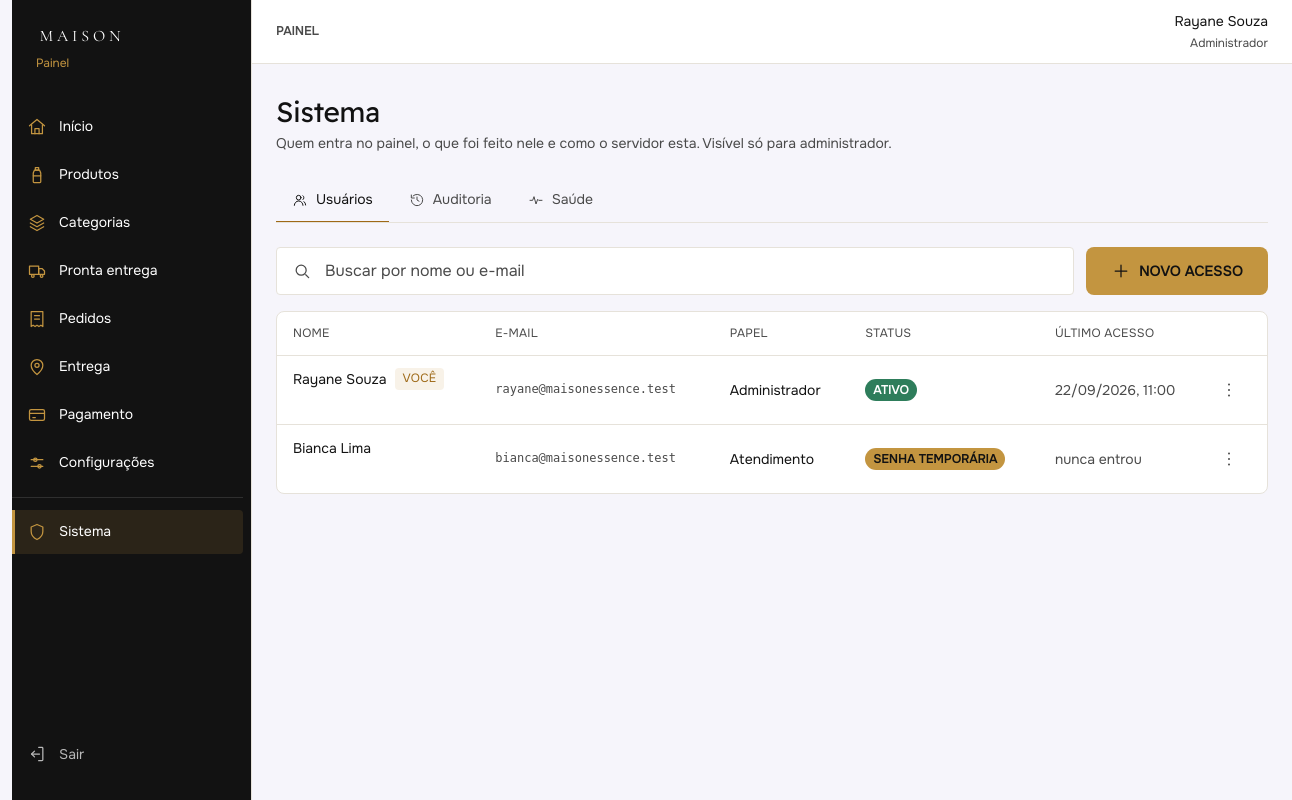
Test case: a busca filtra por nome e por e-mail, sem ir ao servidor
Check: the text "bianca@maisonessence.test" is shown, box [479,424,714,493]
Type "bianca" into the search field with placeholder "Buscar por nome ou e-mail" at x=675, y=271, box [276,247,1074,295]
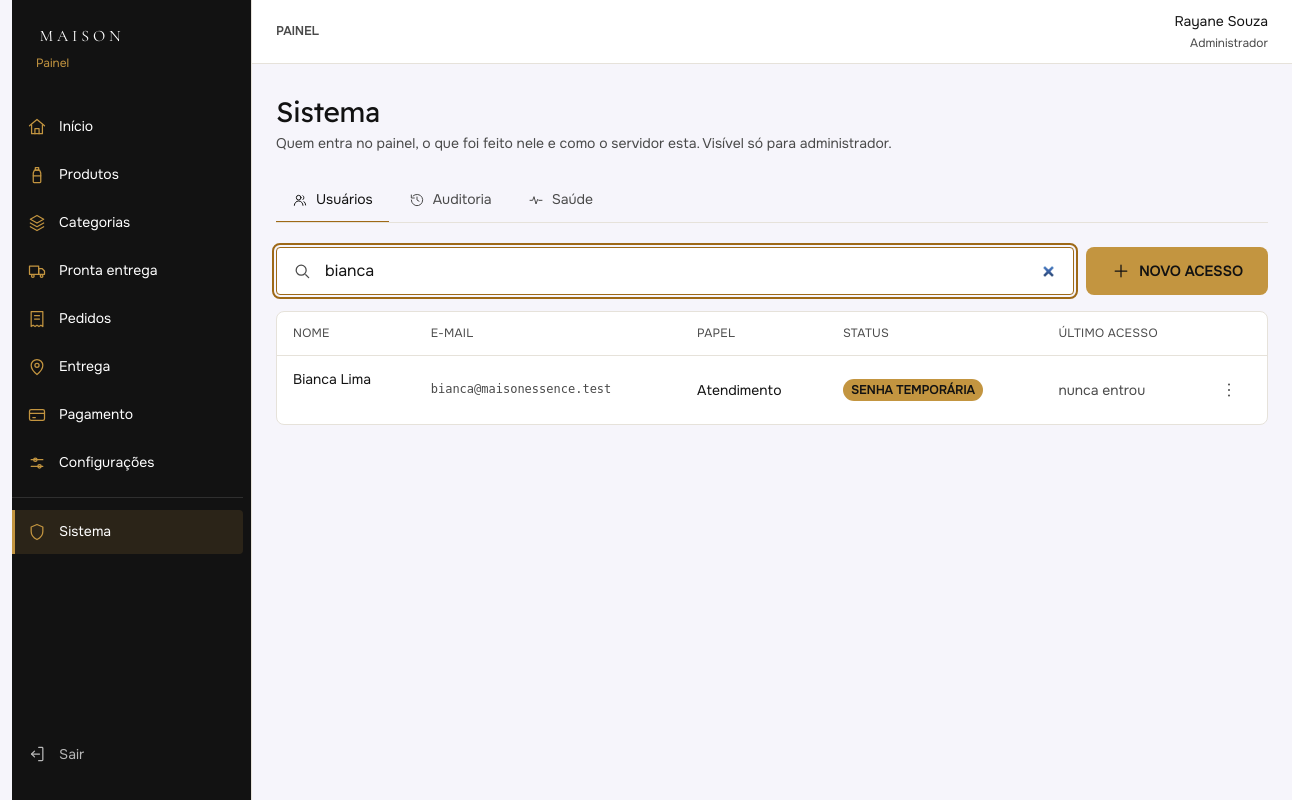
Check: the text "bianca@maisonessence.test" is shown, box [415,355,681,424]
Check: the text "rayane@maisonessence.test" is gone
